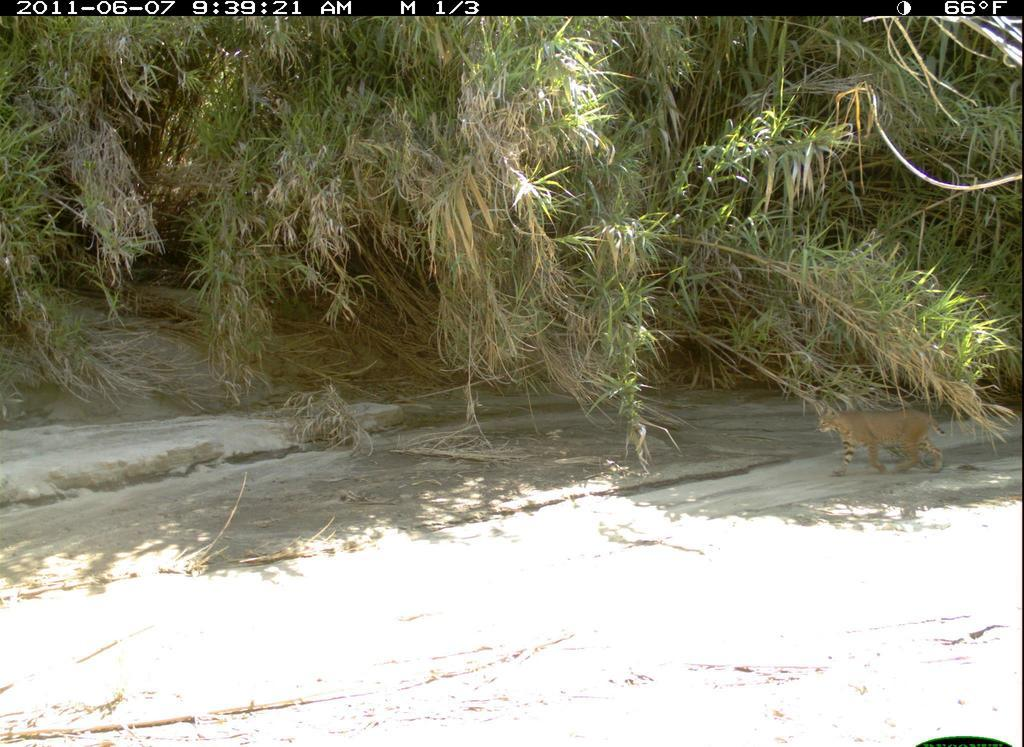bobcat: (808, 397, 951, 479)
